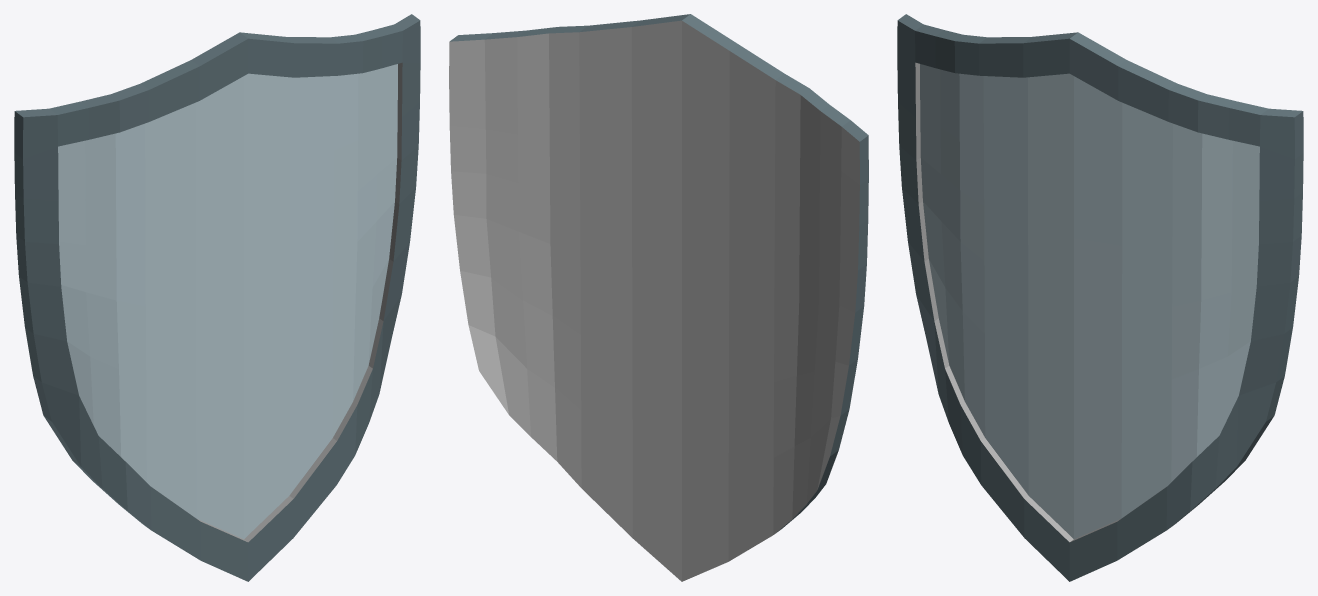
Rendered from Escudo_Textura.fbx.
3 views of the same model, side by side, from view 1: azimuth 30°, elevation 25°; view 2: azimuth 150°, elevation 25°; view 3: azimuth 330°, elevation 25° (orthographic). The views are drawn at different scales.
Visible parts, largest first — view 1: Cube; view 2: Cube; view 3: Cube.
Part boxes in pixels (x1,y1,x2,y2): Cube: (14, 14, 420, 581); Cube: (449, 14, 868, 581); Cube: (897, 14, 1303, 581).
Size of the model in its own units: 3.7 by 4.83 by 0.5672.
